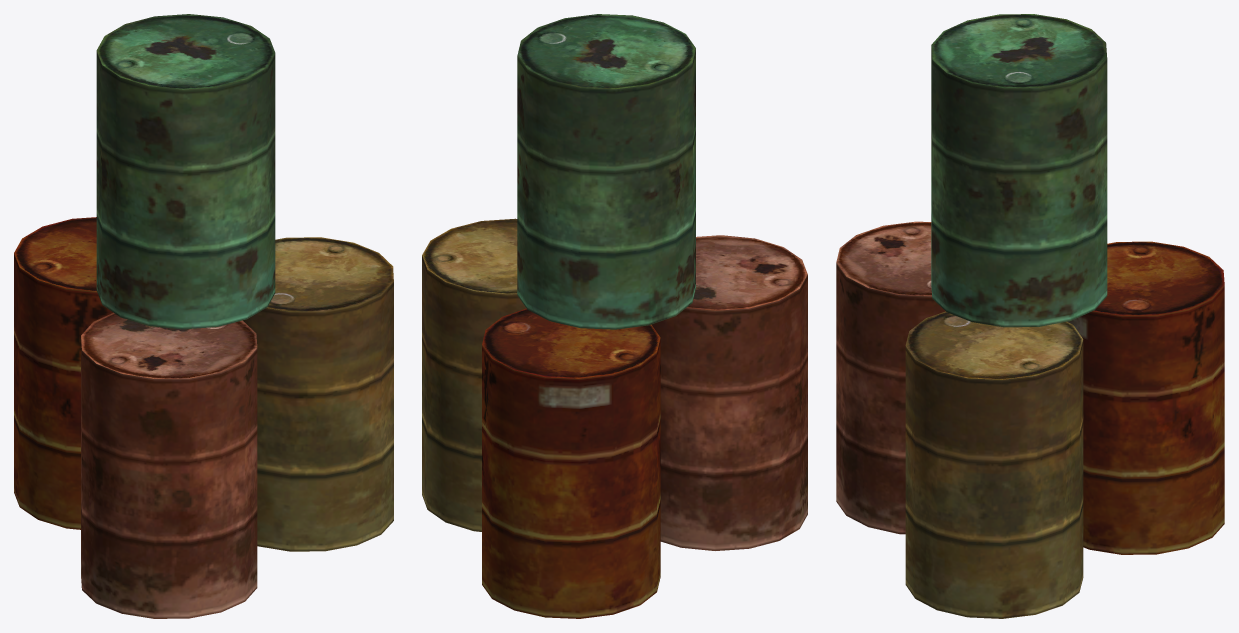
The model's file is od_stack_of_four_upright_2.fbx.
The picture shows the model from 3 angles, left to right: view 1: azimuth 30°, elevation 25°; view 2: azimuth 150°, elevation 25°; view 3: azimuth 270°, elevation 25°; orthographic projection.
Visible parts, largest first — view 1: mesh_3, mesh_1, mesh_0, mesh_2; view 2: mesh_3, mesh_2, mesh_1, mesh_0; view 3: mesh_3, mesh_0, mesh_2, mesh_1.
Boxes of the visible parts, bbox=[...] form: mesh_3: bbox=[96, 14, 275, 329]; mesh_1: bbox=[81, 312, 257, 618]; mesh_0: bbox=[243, 237, 393, 551]; mesh_2: bbox=[14, 217, 113, 529]; mesh_3: bbox=[517, 14, 695, 329]; mesh_2: bbox=[482, 308, 660, 618]; mesh_1: bbox=[651, 235, 807, 550]; mesh_0: bbox=[422, 218, 526, 531]; mesh_3: bbox=[931, 14, 1107, 327]; mesh_0: bbox=[905, 311, 1083, 618]; mesh_2: bbox=[1067, 241, 1224, 554]; mesh_1: bbox=[836, 221, 945, 534].
Size of the model in its own units: 125 by 177 by 130.
4 materials, 4 textured.
